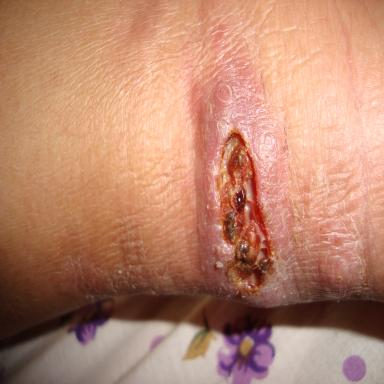Leishmanios: (193, 62, 306, 306)
